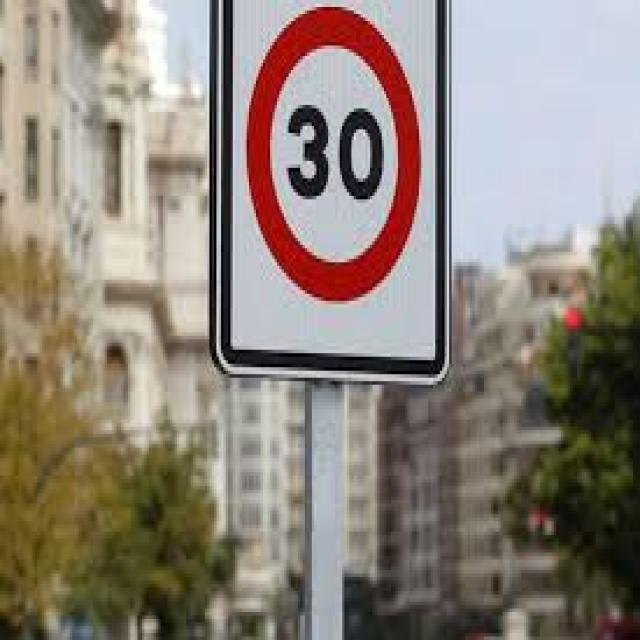Speed limit 30: (244, 2, 429, 315)
